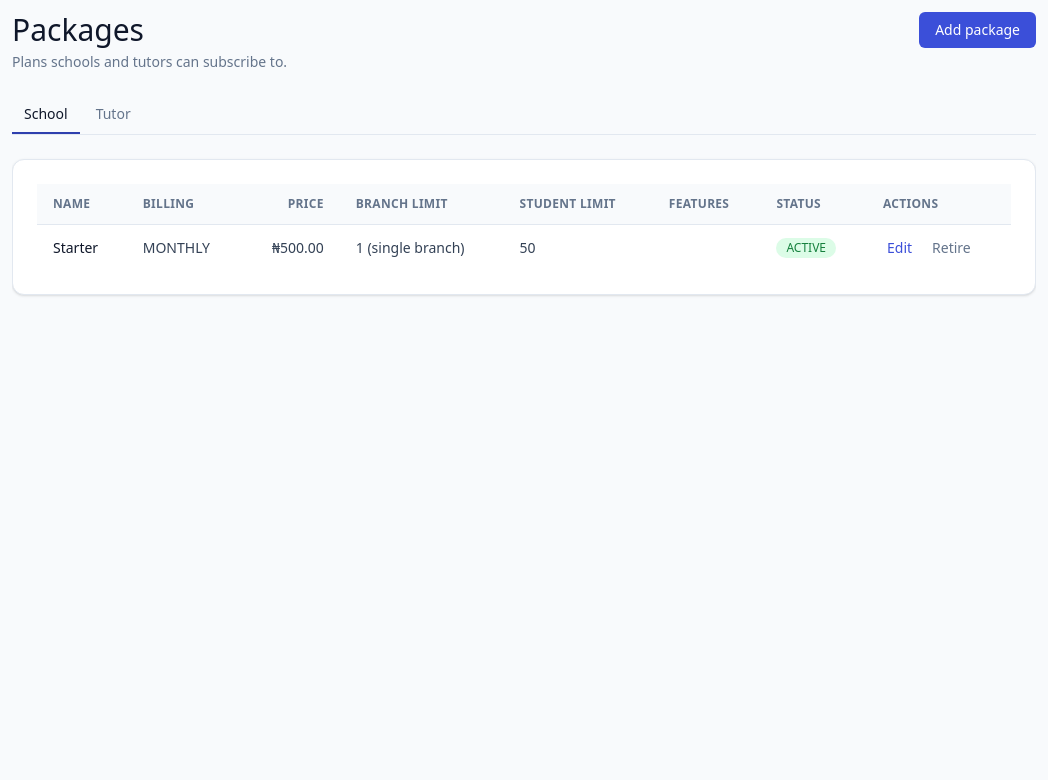
PackagesPage › shows tutor plans on their own tab, with the free plan badged
The image size is (1048, 780).
Expected: the text "Starter" is shown, [37,224,127,270]
Click the tab "Tutor" at (113, 115), box [84,96,143,134]
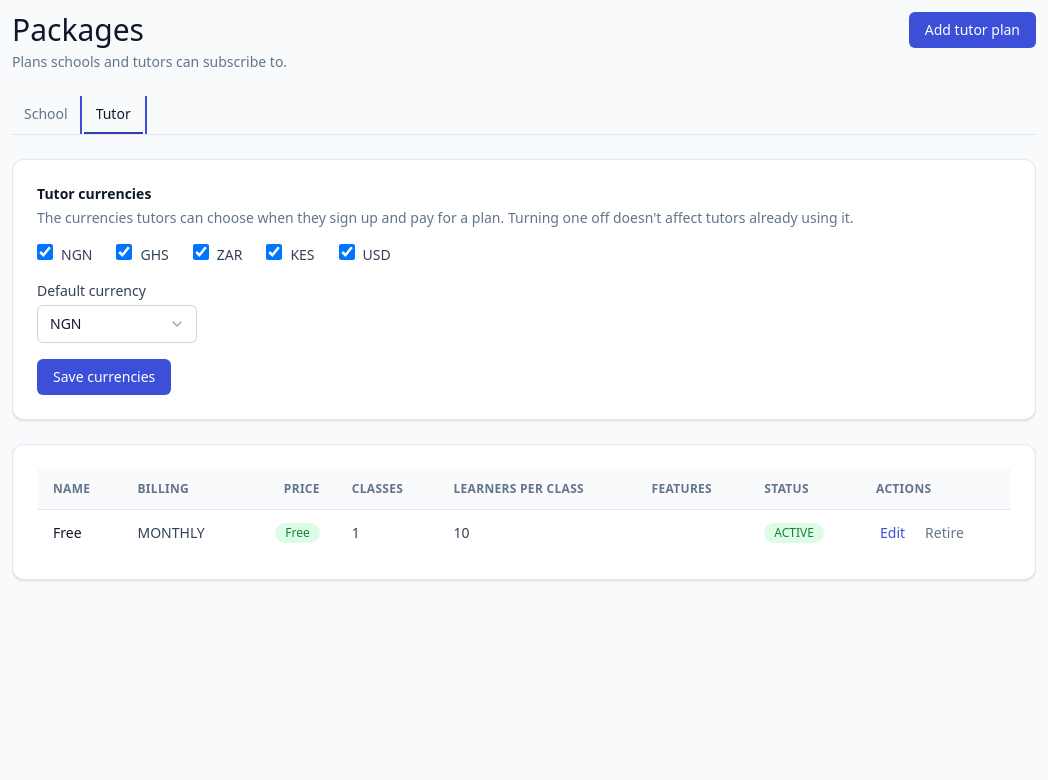
Expected: the text "Free" is shown 2 times, [37,510,122,555]; [275,523,320,543]
Now the column heading "Learners per class" is shown, box [438,469,636,510]
